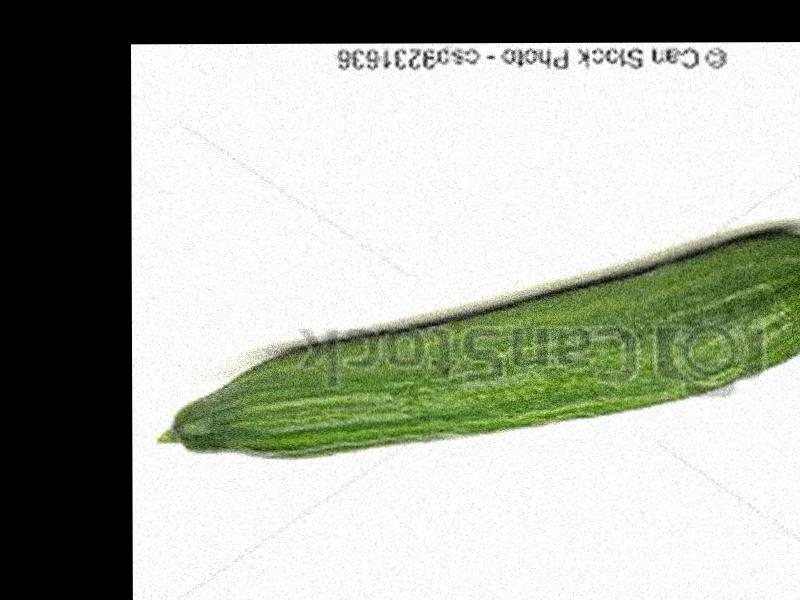Cucumber: (159, 231, 800, 456)
